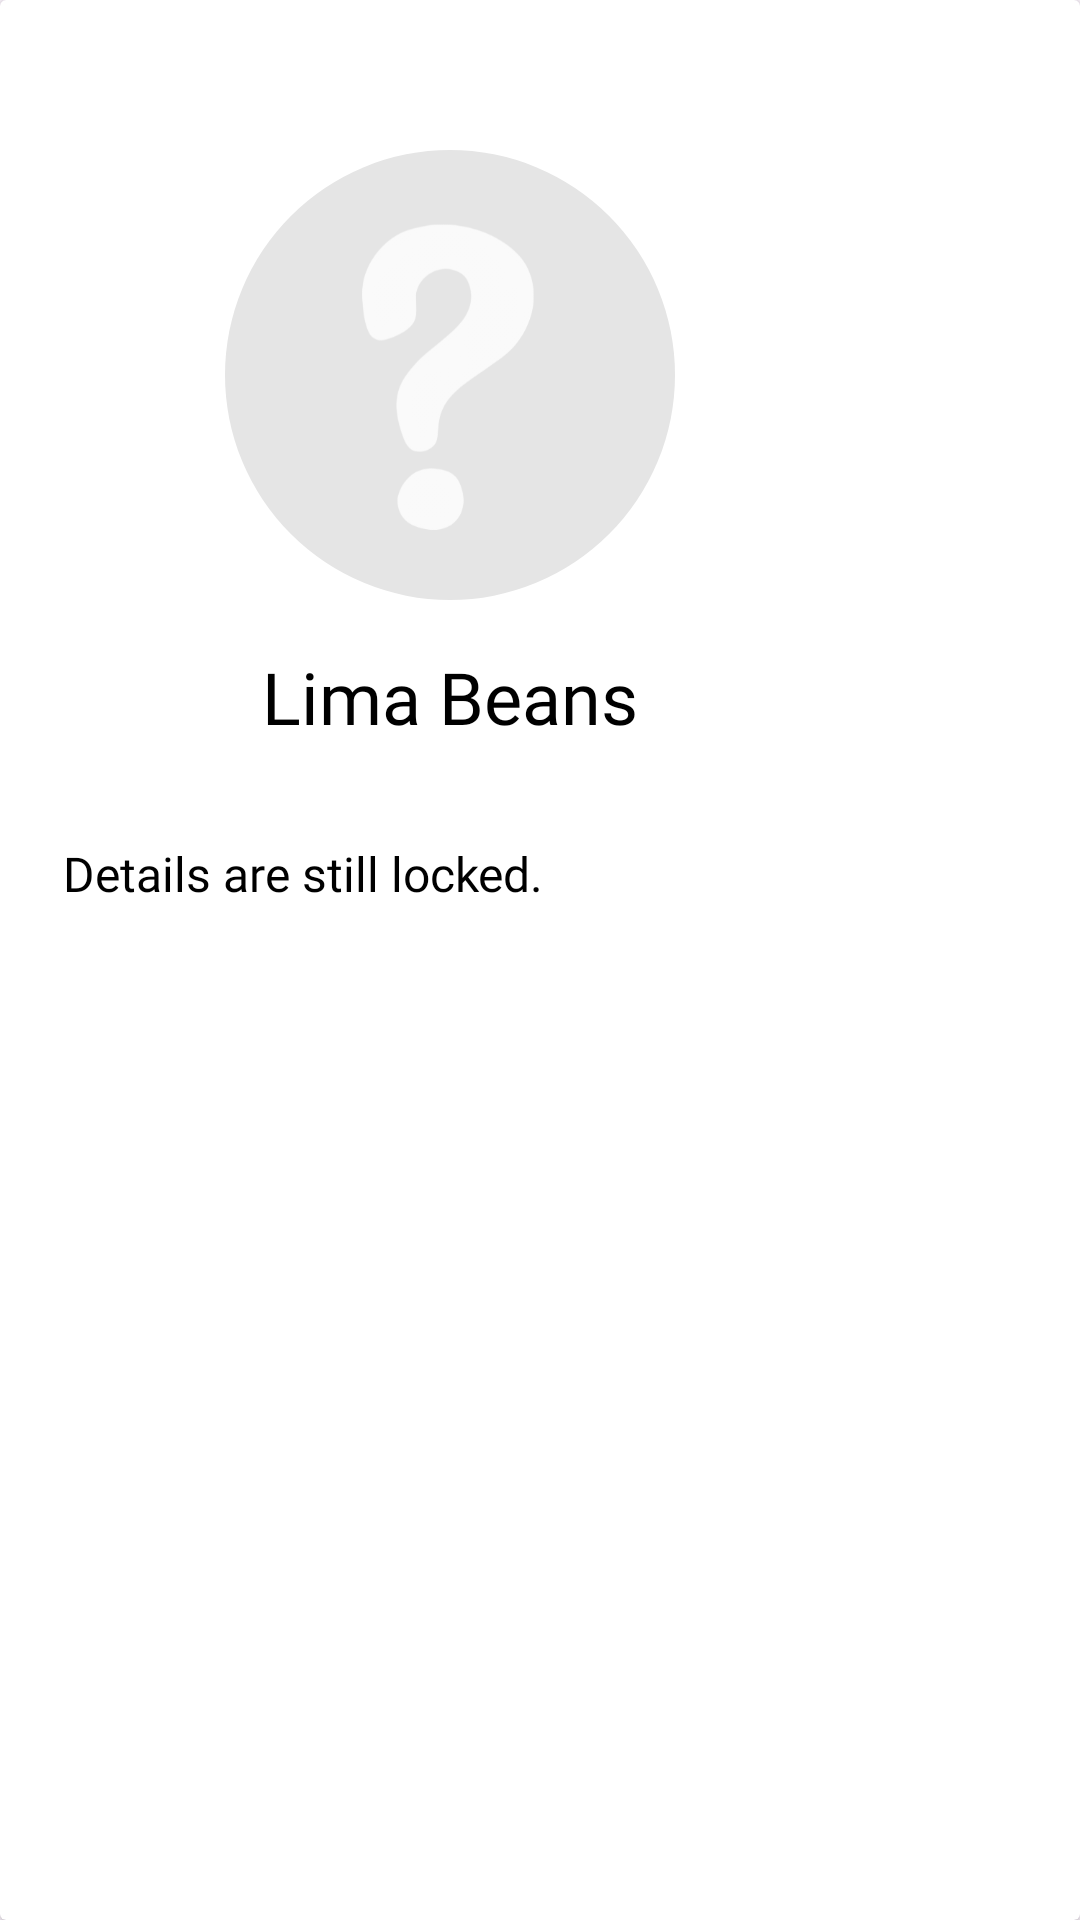

Screen size 1080×1920. Icon name, then its center in pixels as (x=x, y=y):
Question Mark: (x=450, y=375)
